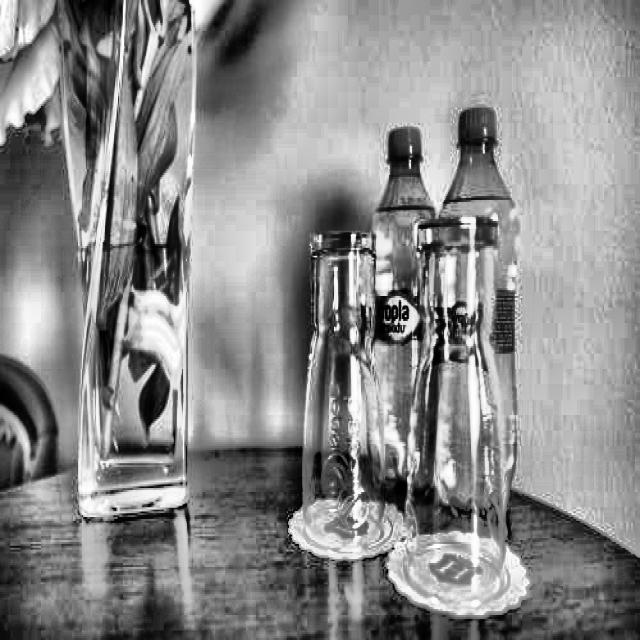waterbottle: (424, 95, 524, 529), (355, 111, 443, 502)
